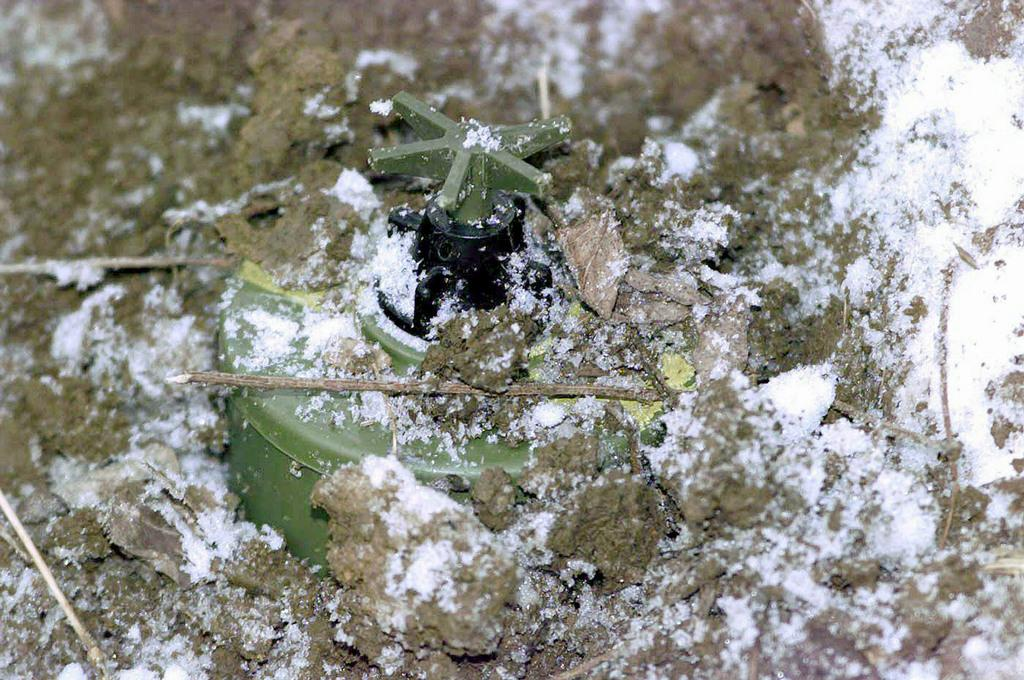pmn: (209, 85, 760, 592)
